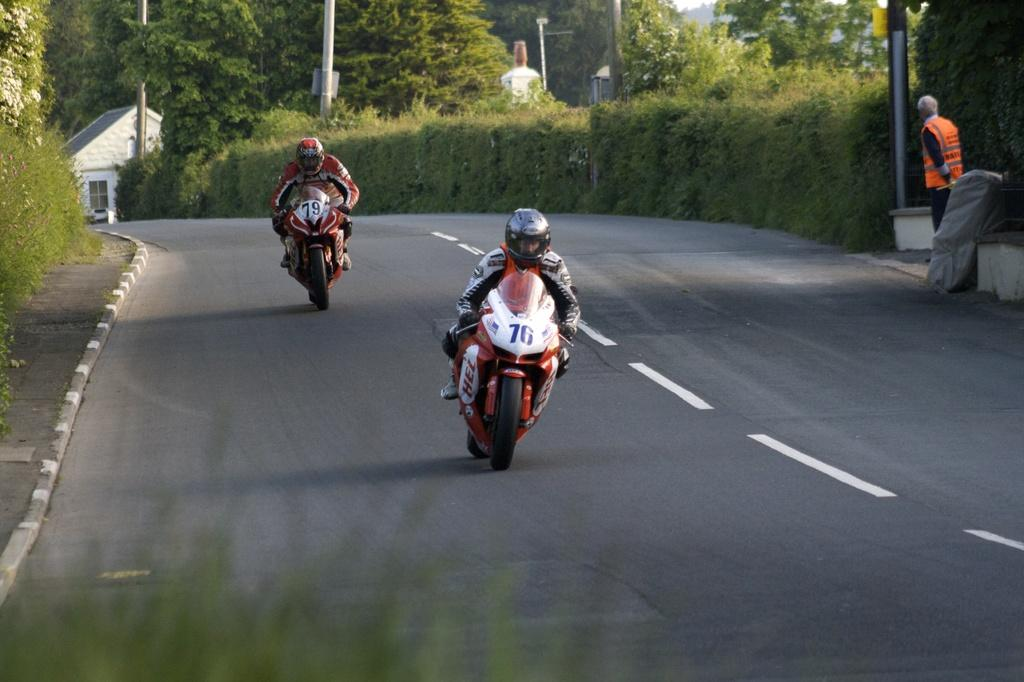helmet: (504, 208, 551, 268), (296, 137, 325, 176)
nohelmet: (917, 94, 939, 122)
